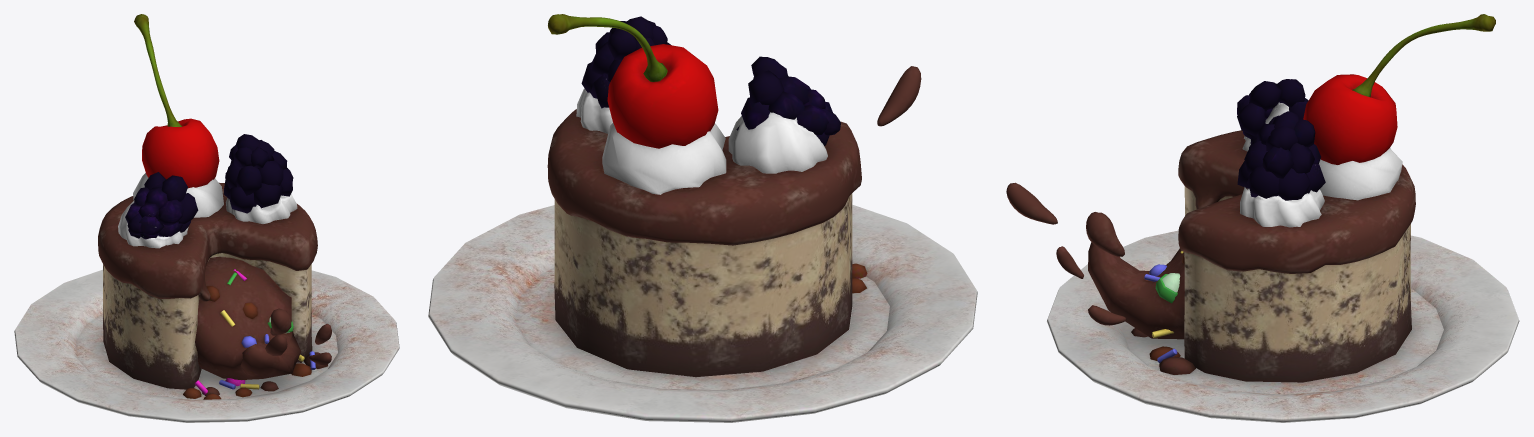
The model's file is cake.glb.
3 views of the same model, side by side, from view 1: azimuth 30°, elevation 25°; view 2: azimuth 150°, elevation 25°; view 3: azimuth 270°, elevation 25° (orthographic). The views are drawn at different scales.
Parts seen in each view (by area): view 1: g; view 2: g; view 3: g.
Boxes of the visible parts, bbox=[...] form: g: bbox=[14, 14, 399, 422]; g: bbox=[428, 14, 977, 422]; g: bbox=[1006, 14, 1519, 422].
Size of the model in its own units: 1.84 by 1.47 by 2.
Materials: 1 (1 with a texture image).
